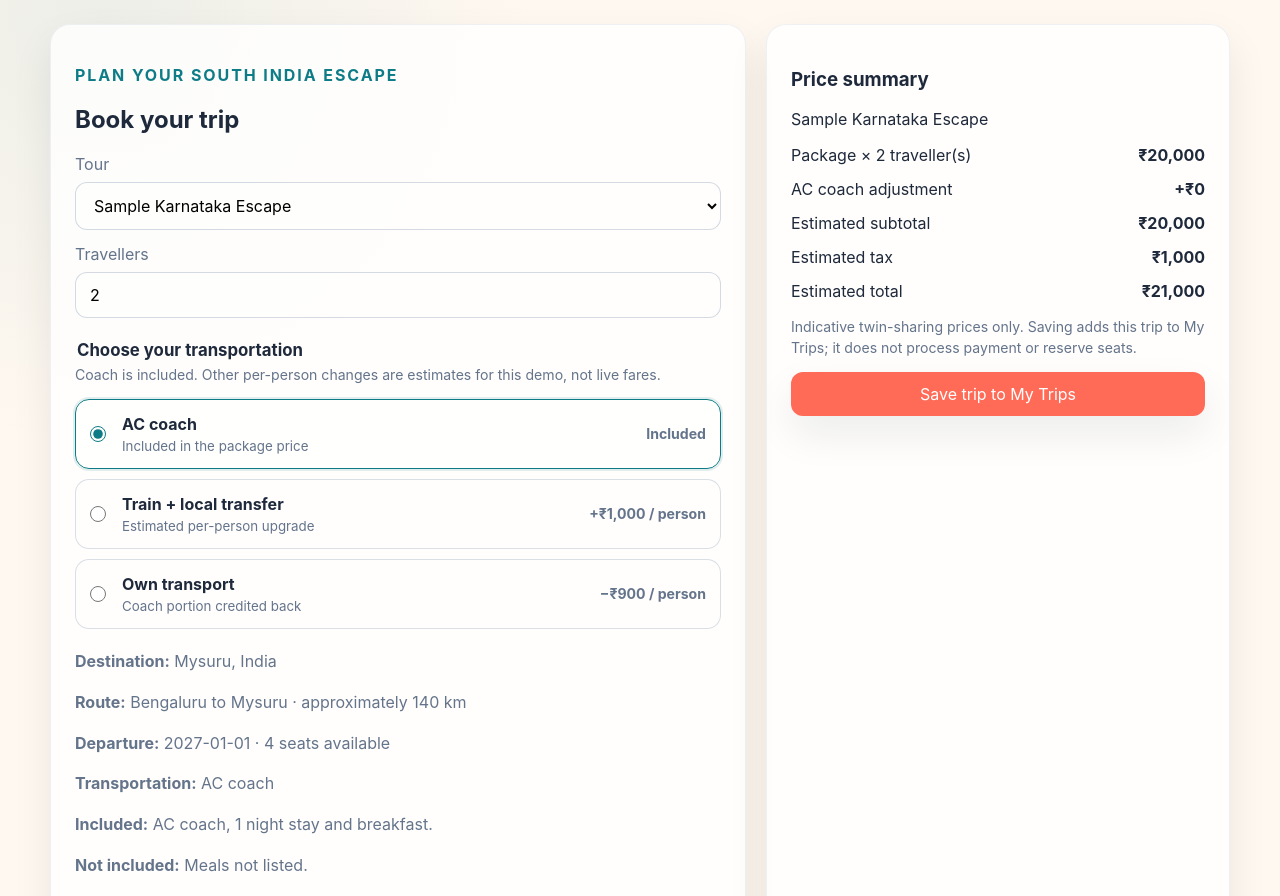
Test: BookingPage transportation estimates › updates the per-person transport adjustment and total
Expected: the text "₹21,000" is shown, top-left (1142, 281), bottom-right (1205, 301)
Click the radio button labelled "Train + local transfer".
click(98, 514)  # box top-left (90, 506), bottom-right (106, 522)
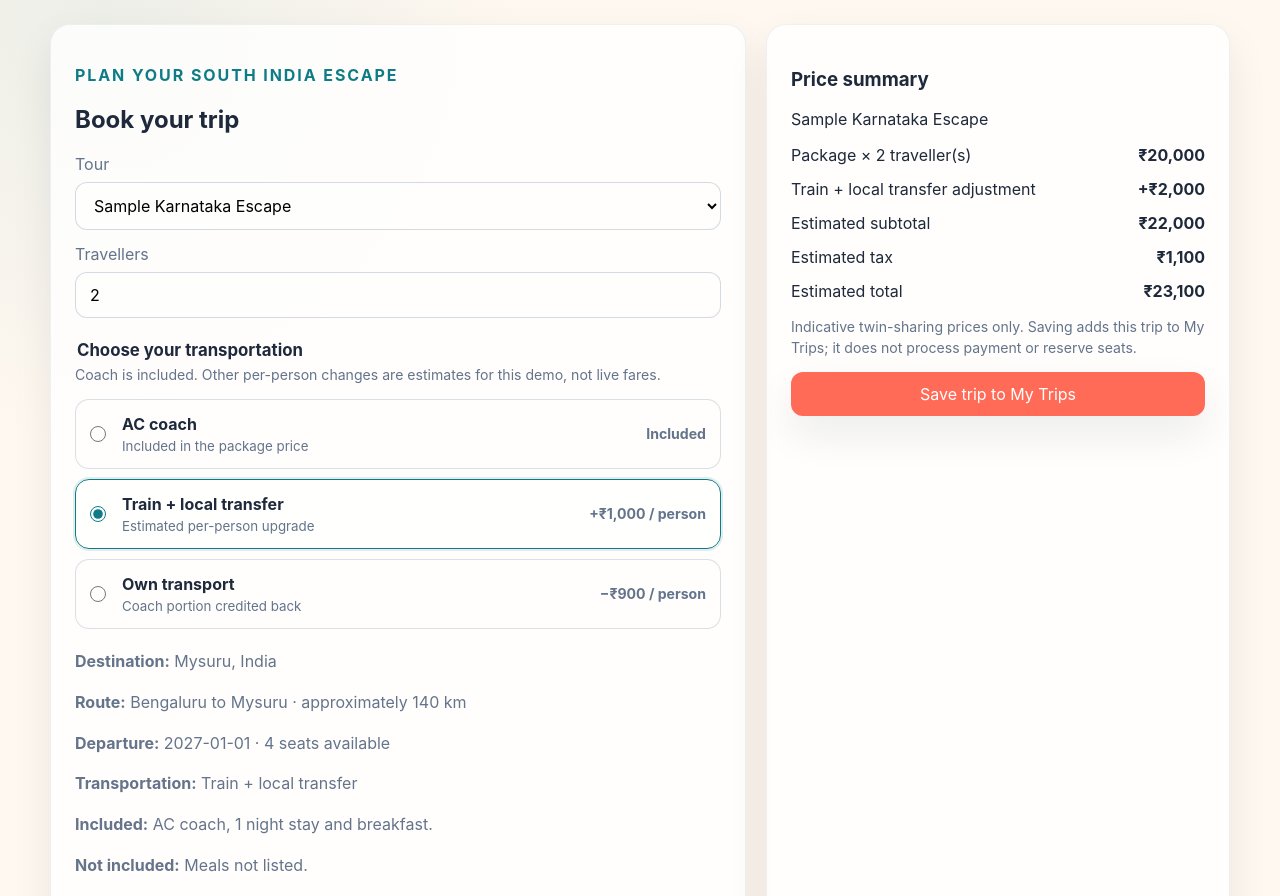
Expected: the text "₹23,100" is shown, top-left (1143, 281), bottom-right (1205, 301)
Expected: the text "Train + local transfer" is shown, top-left (201, 773), bottom-right (357, 793)
